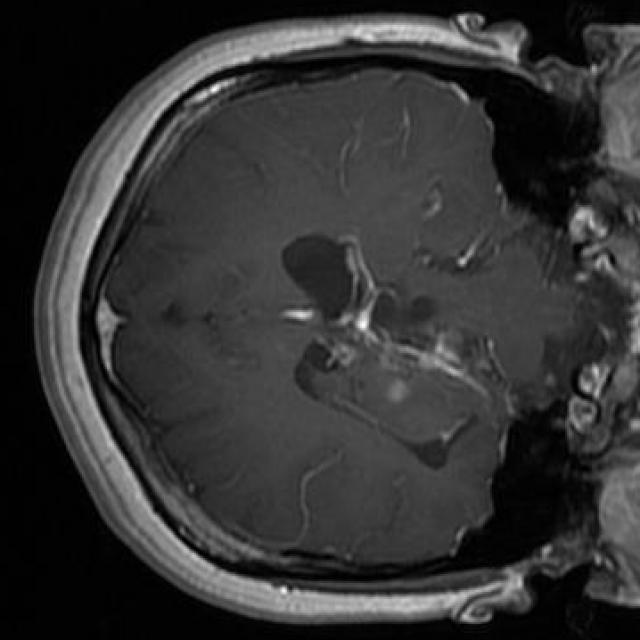glioma: (282, 234, 506, 469)
